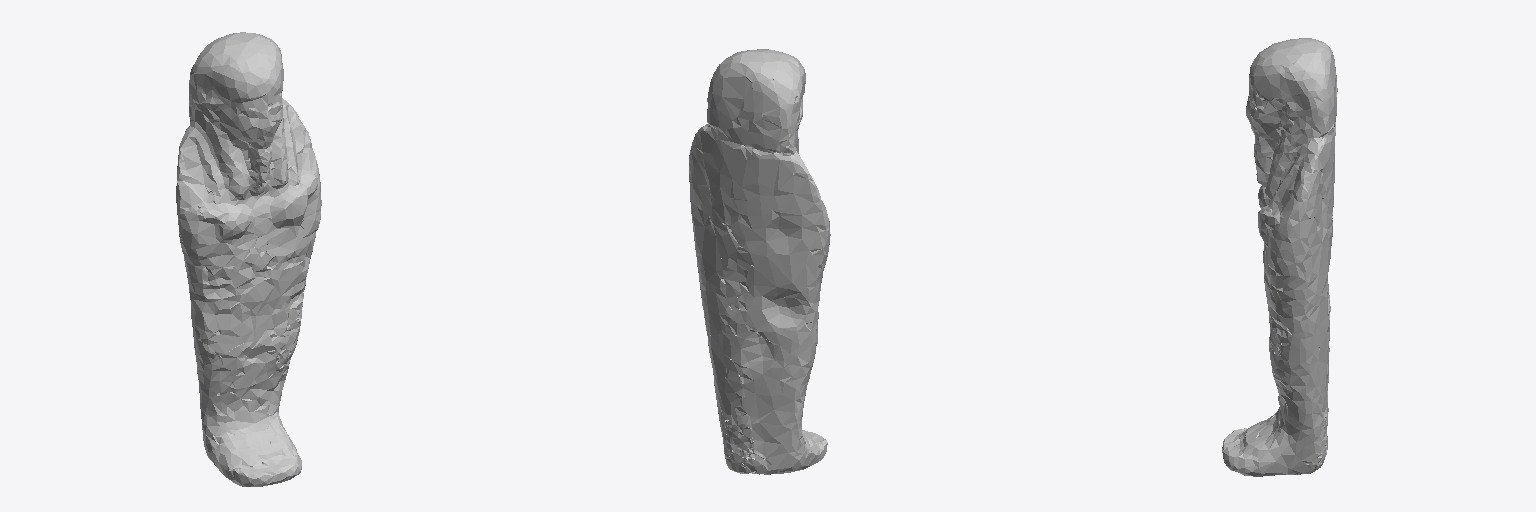
File: nrcc_mummy.obj
3 renders of one model, left to right at view 1: azimuth 30°, elevation 25°; view 2: azimuth 150°, elevation 25°; view 3: azimuth 270°, elevation 25°, orthographic.
Size of the model in its own units: 0.689 by 2 by 0.4993.